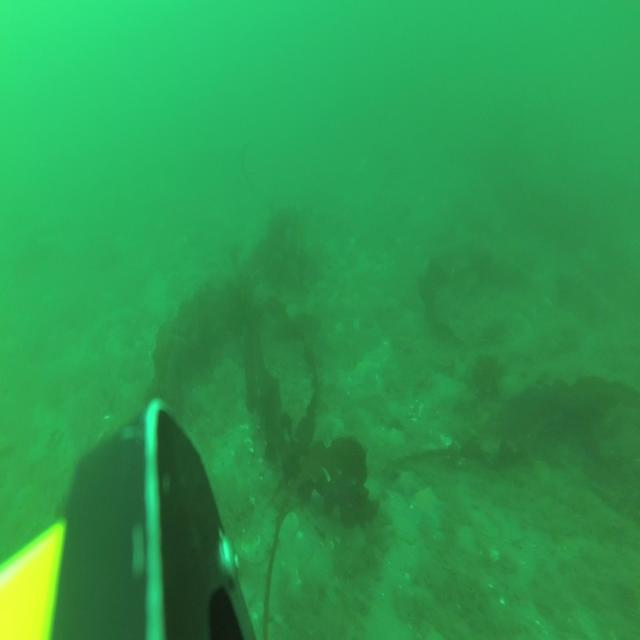scallop: (278, 506, 303, 544), (238, 523, 262, 555)
starfish: (411, 483, 444, 532), (394, 466, 420, 502)
